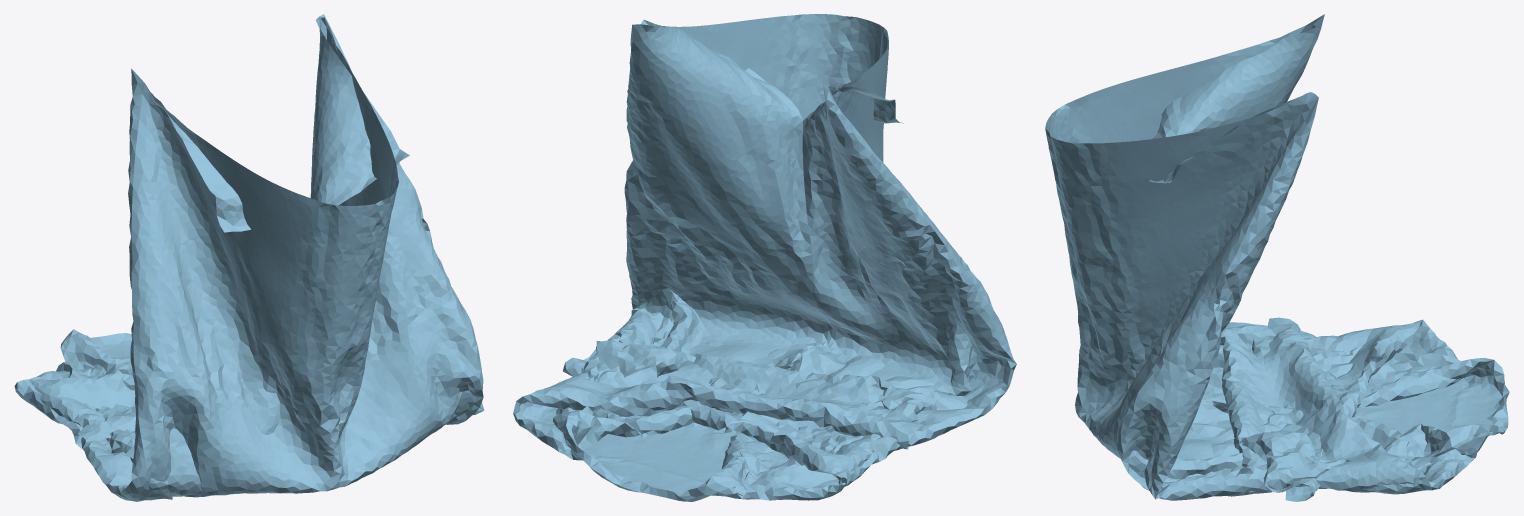
The model's file is frame_14.glb.
The picture shows the model from 3 angles, left to right: view 1: azimuth 30°, elevation 25°; view 2: azimuth 150°, elevation 25°; view 3: azimuth 270°, elevation 25°; orthographic projection. The views are drawn at different scales.
Parts seen in each view (by area): view 1: frame_14.obj; view 2: frame_14.obj; view 3: frame_14.obj.
Boxes of the visible parts, x1=… form: frame_14.obj: x1=14, y1=14, x2=484, y2=501; frame_14.obj: x1=513, y1=14, x2=1016, y2=501; frame_14.obj: x1=1045, y1=14, x2=1509, y2=501.
Size of the model in its own units: 0.9227 by 0.8948 by 1.
